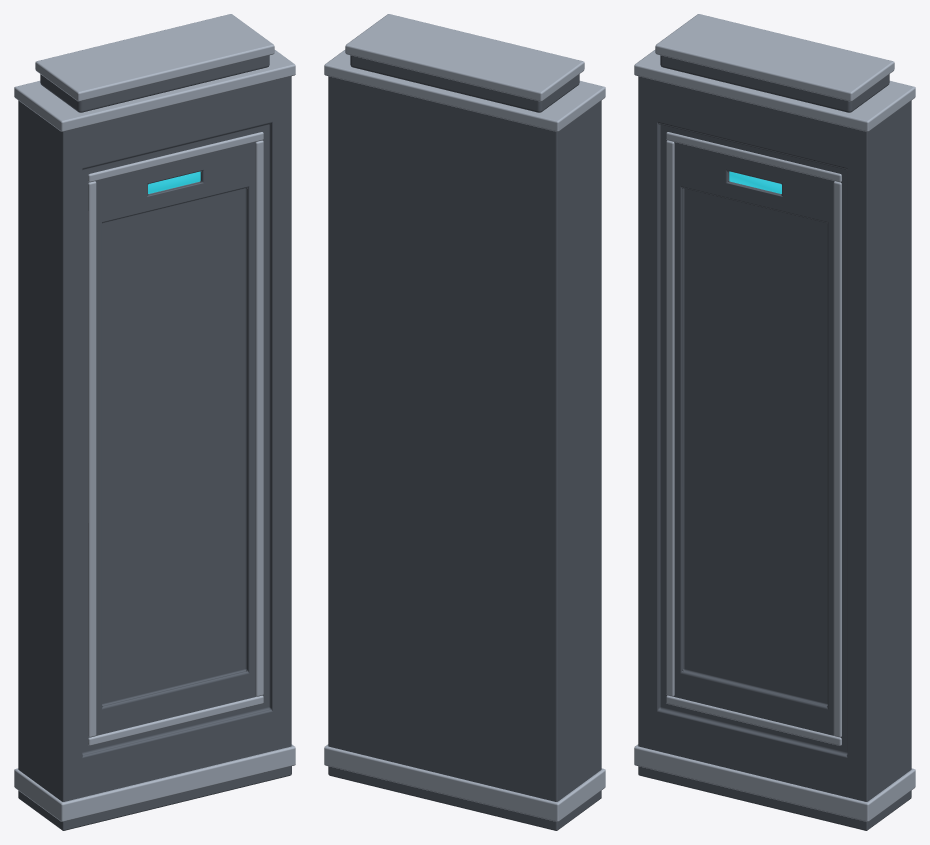
The model's file is monolith-stele.glb.
The picture shows the model from 3 angles, left to right: view 1: azimuth 30°, elevation 25°; view 2: azimuth 150°, elevation 25°; view 3: azimuth 330°, elevation 25°; orthographic projection.
Visible parts, largest first — view 1: monolith-stele-body, monolith-stele-steel, monolith-stele-crown, monolith-stele-glow; view 2: monolith-stele-body, monolith-stele-steel, monolith-stele-crown; view 3: monolith-stele-body, monolith-stele-steel, monolith-stele-crown, monolith-stele-glow.
Part boxes in pixels (x1=…): monolith-stele-body: x1=18, y1=76, x2=291, y2=830; monolith-stele-steel: x1=14, y1=14, x2=295, y2=821; monolith-stele-crown: x1=40, y1=55, x2=269, y2=112; monolith-stele-glow: x1=148, y1=171, x2=200, y2=193; monolith-stele-body: x1=328, y1=76, x2=601, y2=830; monolith-stele-steel: x1=324, y1=14, x2=605, y2=821; monolith-stele-crown: x1=350, y1=55, x2=579, y2=112; monolith-stele-body: x1=638, y1=76, x2=911, y2=830; monolith-stele-steel: x1=634, y1=14, x2=915, y2=821; monolith-stele-crown: x1=660, y1=55, x2=889, y2=112; monolith-stele-glow: x1=729, y1=171, x2=781, y2=193.
Bounding box in the file's own units: 3.48 × 10.4 × 1.24.
